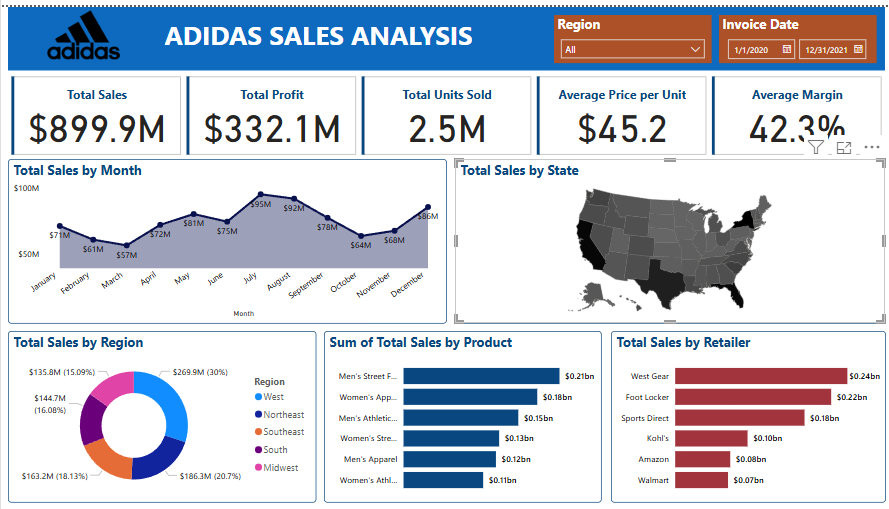

What the dashboard file says about the page in this screenshot:
{"tool":"powerbi","page":{"name":"Page 1","canvas":[1280,720],"ordinal":0},"visuals":[{"type":"shape","box":[10.1,0,1257,90.7],"z":0},{"type":"textbox","box":[229.8,0,488.6,95],"z":1000},{"type":"image","box":[55.1,0,128,79.8],"z":2000},{"type":"slicer","title":"Invoice Date","fields":{"Values":["Data Sales Adidas.Invoice Date"]},"box":[1029.5,11,225.7,68.8],"z":3000},{"type":"slicer","title":"Region","fields":{"Values":["Data Sales Adidas.Region"]},"box":[792.8,11,225.7,68.8],"z":3001},{"type":"cardVisual","fields":{"Data":["Sum(Data Sales Adidas.Total Sales)","Sum(Data Sales Adidas.Operating Profit)","Sum(Data Sales Adidas.Units Sold)","Avg(Data Sales Adidas.Price per Unit)","Avg(Data Sales Adidas.Operating Margin)"]},"box":[10.2,95.1,1257.1,122.9],"z":3002},{"type":"stackedAreaChart","title":"Total Sales by Month","fields":{"Category":["Data Sales Adidas.Invoice Date.Variation.Date Hierarchy.Month"],"Y":["Sum(Data Sales Adidas.Total Sales)"]},"box":[10.2,218,629.3,235.6],"z":3003},{"type":"filledMap","title":"Total Sales by State","fields":{"Category":["Data Sales Adidas.State"]},"box":[651.2,218,616.1,235.6],"z":3004},{"type":"donutChart","title":"Total Sales by Region","fields":{"Category":["Data Sales Adidas.Region"],"Y":["Sum(Data Sales Adidas.Total Sales)"]},"box":[10.2,463.9,442,245.9],"z":3005},{"type":"barChart","fields":{"Category":["Data Sales Adidas.Product"],"Y":["Sum(Data Sales Adidas.Total Sales)"]},"box":[462.4,463.9,398,245.9],"z":3006},{"type":"barChart","title":"Total Sales by Retailer","fields":{"Y":["Sum(Data Sales Adidas.Total Sales)"],"Category":["Data Sales Adidas.Retailer"]},"box":[873.7,463.9,393.7,245.9],"z":3007}]}

Visuals, with their boxes in screenshot pixels (x1, y1, x2, y2), scaled from the page's 1280x720 canvas onto the 889x509 screenshot:
shape: (left=7, top=0, right=880, bottom=64)
textbox: (left=160, top=0, right=499, bottom=67)
image: (left=38, top=0, right=127, bottom=56)
"Invoice Date" slicer: (left=715, top=8, right=872, bottom=56)
"Region" slicer: (left=551, top=8, right=707, bottom=56)
cardVisual - Sum(Data Sales Adidas.Total Sales) x Sum(Data Sales Adidas.Operating Profit): (left=7, top=67, right=880, bottom=154)
"Total Sales by Month" stackedAreaChart: (left=7, top=154, right=444, bottom=321)
"Total Sales by State" filledMap: (left=452, top=154, right=880, bottom=321)
"Total Sales by Region" donutChart: (left=7, top=328, right=314, bottom=502)
barChart - Data Sales Adidas.Product x Sum(Data Sales Adidas.Total Sales): (left=321, top=328, right=598, bottom=502)
"Total Sales by Retailer" barChart: (left=607, top=328, right=880, bottom=502)
